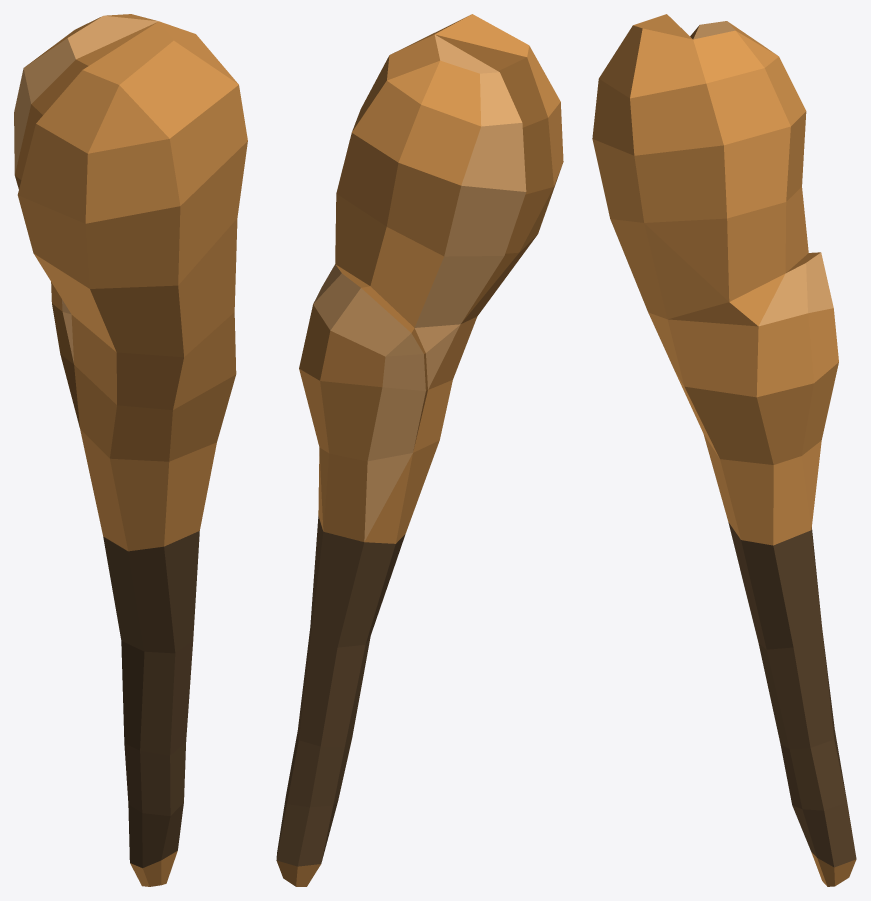
The model's file is Baton.fbx.
3 renders of one model, left to right at view 1: azimuth 30°, elevation 25°; view 2: azimuth 150°, elevation 25°; view 3: azimuth 270°, elevation 25°, orthographic. The views are drawn at different scales.
Parts seen in each view (by area): view 1: Baton; view 2: Baton; view 3: Baton.
Boxes of the visible parts, x1,y1,x2,y2 form: Baton: (14, 14, 247, 886); Baton: (276, 14, 563, 886); Baton: (592, 14, 856, 886).
Size of the model in its own units: 24.55 by 91.21 by 26.73.
